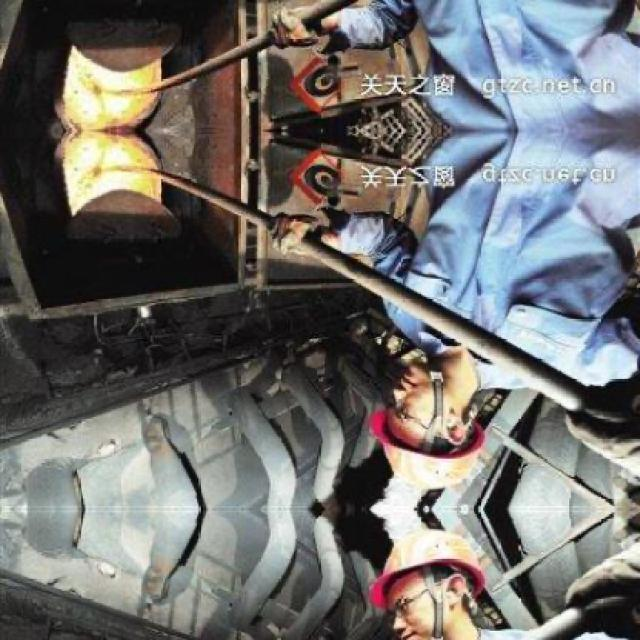con casco: (366, 362, 528, 497)
